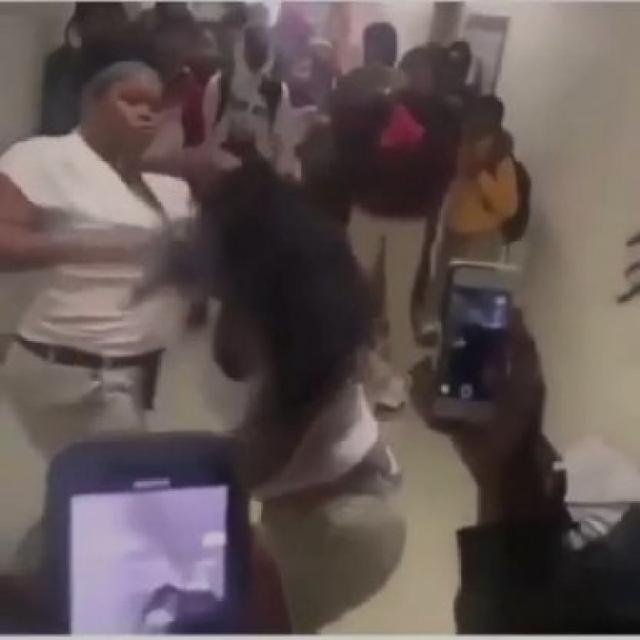fight: (0, 27, 424, 640)
non-fight: (327, 14, 464, 413), (405, 90, 538, 352)
